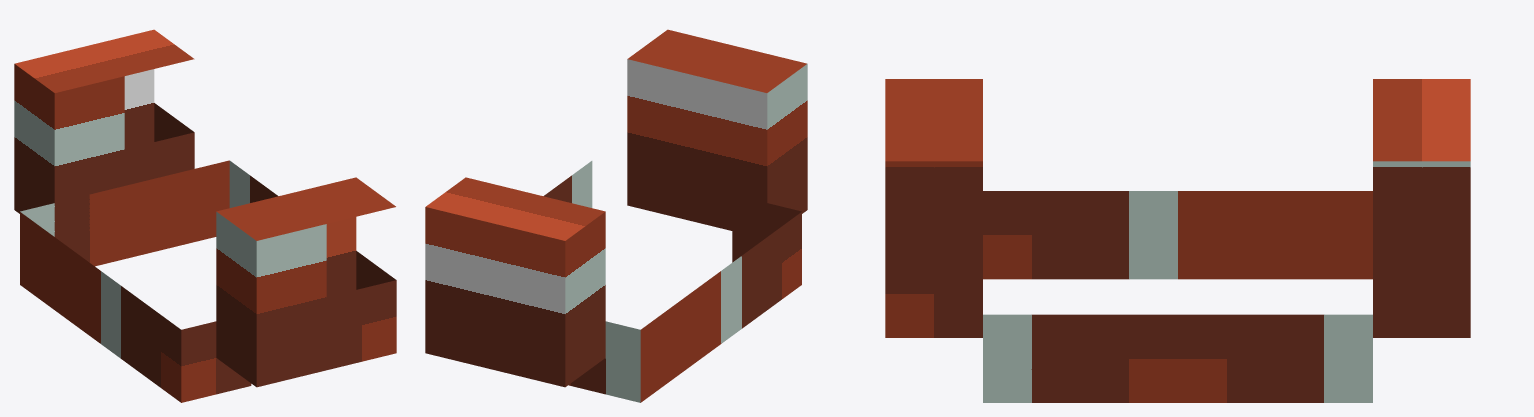
Rendered from rugby_ball.glb.
3 views of the same model, side by side, from view 1: azimuth 30°, elevation 25°; view 2: azimuth 150°, elevation 25°; view 3: azimuth 270°, elevation 25° (orthographic). The views are drawn at different scales.
Visible parts, largest first — view 1: root; view 2: root; view 3: root.
Boxes of the visible parts, box(x1,y1,x2,y2) form: root: box(14, 29, 396, 402); root: box(425, 29, 807, 402); root: box(885, 79, 1470, 402).
Bounding box in the file's own units: 0.375 × 0.375 × 0.875.
1 material, 1 textured.
